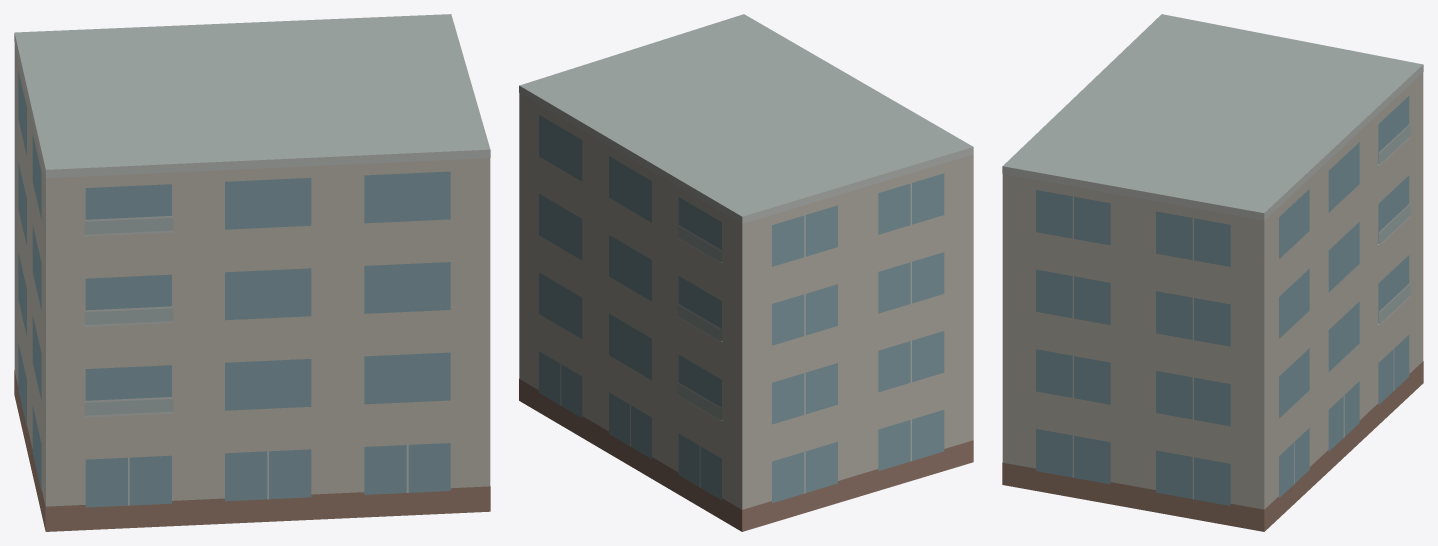
Rendered from survey-upis-32971836.glb.
The picture shows the model from 3 angles, left to right: view 1: azimuth 30°, elevation 25°; view 2: azimuth 150°, elevation 25°; view 3: azimuth 270°, elevation 25°; orthographic projection. The views are drawn at different scales.
Parts seen in each view (by area): view 1: survey-upis-32971836.tmp; view 2: survey-upis-32971836.tmp; view 3: survey-upis-32971836.tmp.
Boxes of the visible parts, x1,y1,x2,y2 form: survey-upis-32971836.tmp: (14,14,490,531); survey-upis-32971836.tmp: (519,14,973,531); survey-upis-32971836.tmp: (1002,14,1423,531).
Bounding box in the file's own units: 14.02 × 10.45 × 12.52.
